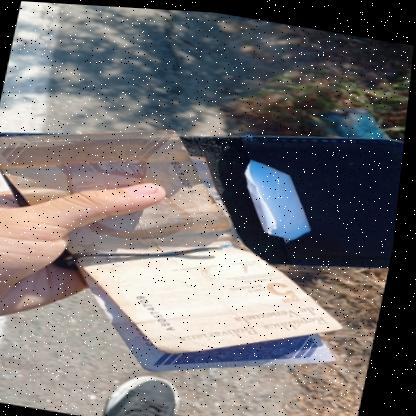five-back-vef: (0, 100, 382, 376)
